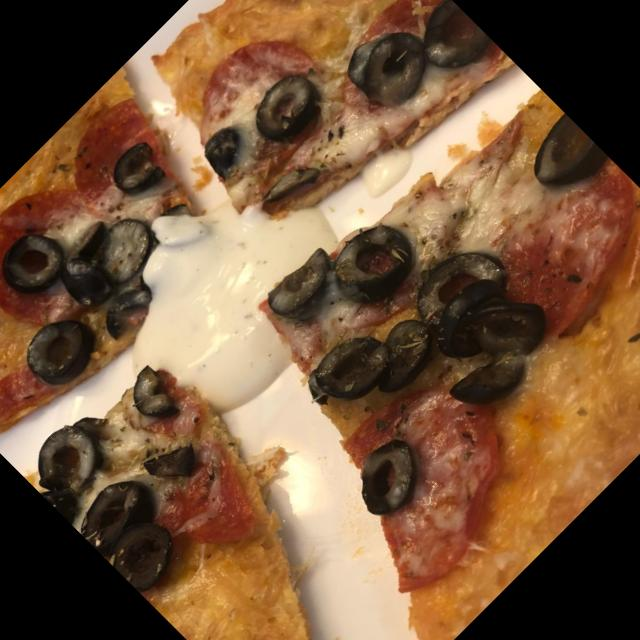black_olives: (401, 234, 513, 346), (318, 212, 424, 318), (332, 15, 437, 120), (511, 108, 614, 210), (304, 318, 402, 415), (351, 309, 448, 406), (68, 466, 165, 562), (338, 432, 434, 528), (257, 240, 353, 336), (102, 506, 198, 600), (402, 0, 496, 85), (470, 279, 559, 368), (240, 59, 328, 147), (22, 416, 110, 503), (20, 306, 104, 391), (446, 341, 526, 421), (0, 218, 71, 302), (102, 133, 174, 205), (140, 427, 207, 492), (120, 364, 186, 428), (195, 118, 258, 180), (259, 154, 317, 212)
pepperoni: (294, 350, 552, 608), (470, 138, 640, 341), (170, 18, 344, 192), (116, 400, 284, 568), (0, 161, 132, 338), (52, 84, 202, 234), (342, 0, 452, 80), (0, 339, 65, 433)
pizza: (0, 0, 640, 640)
